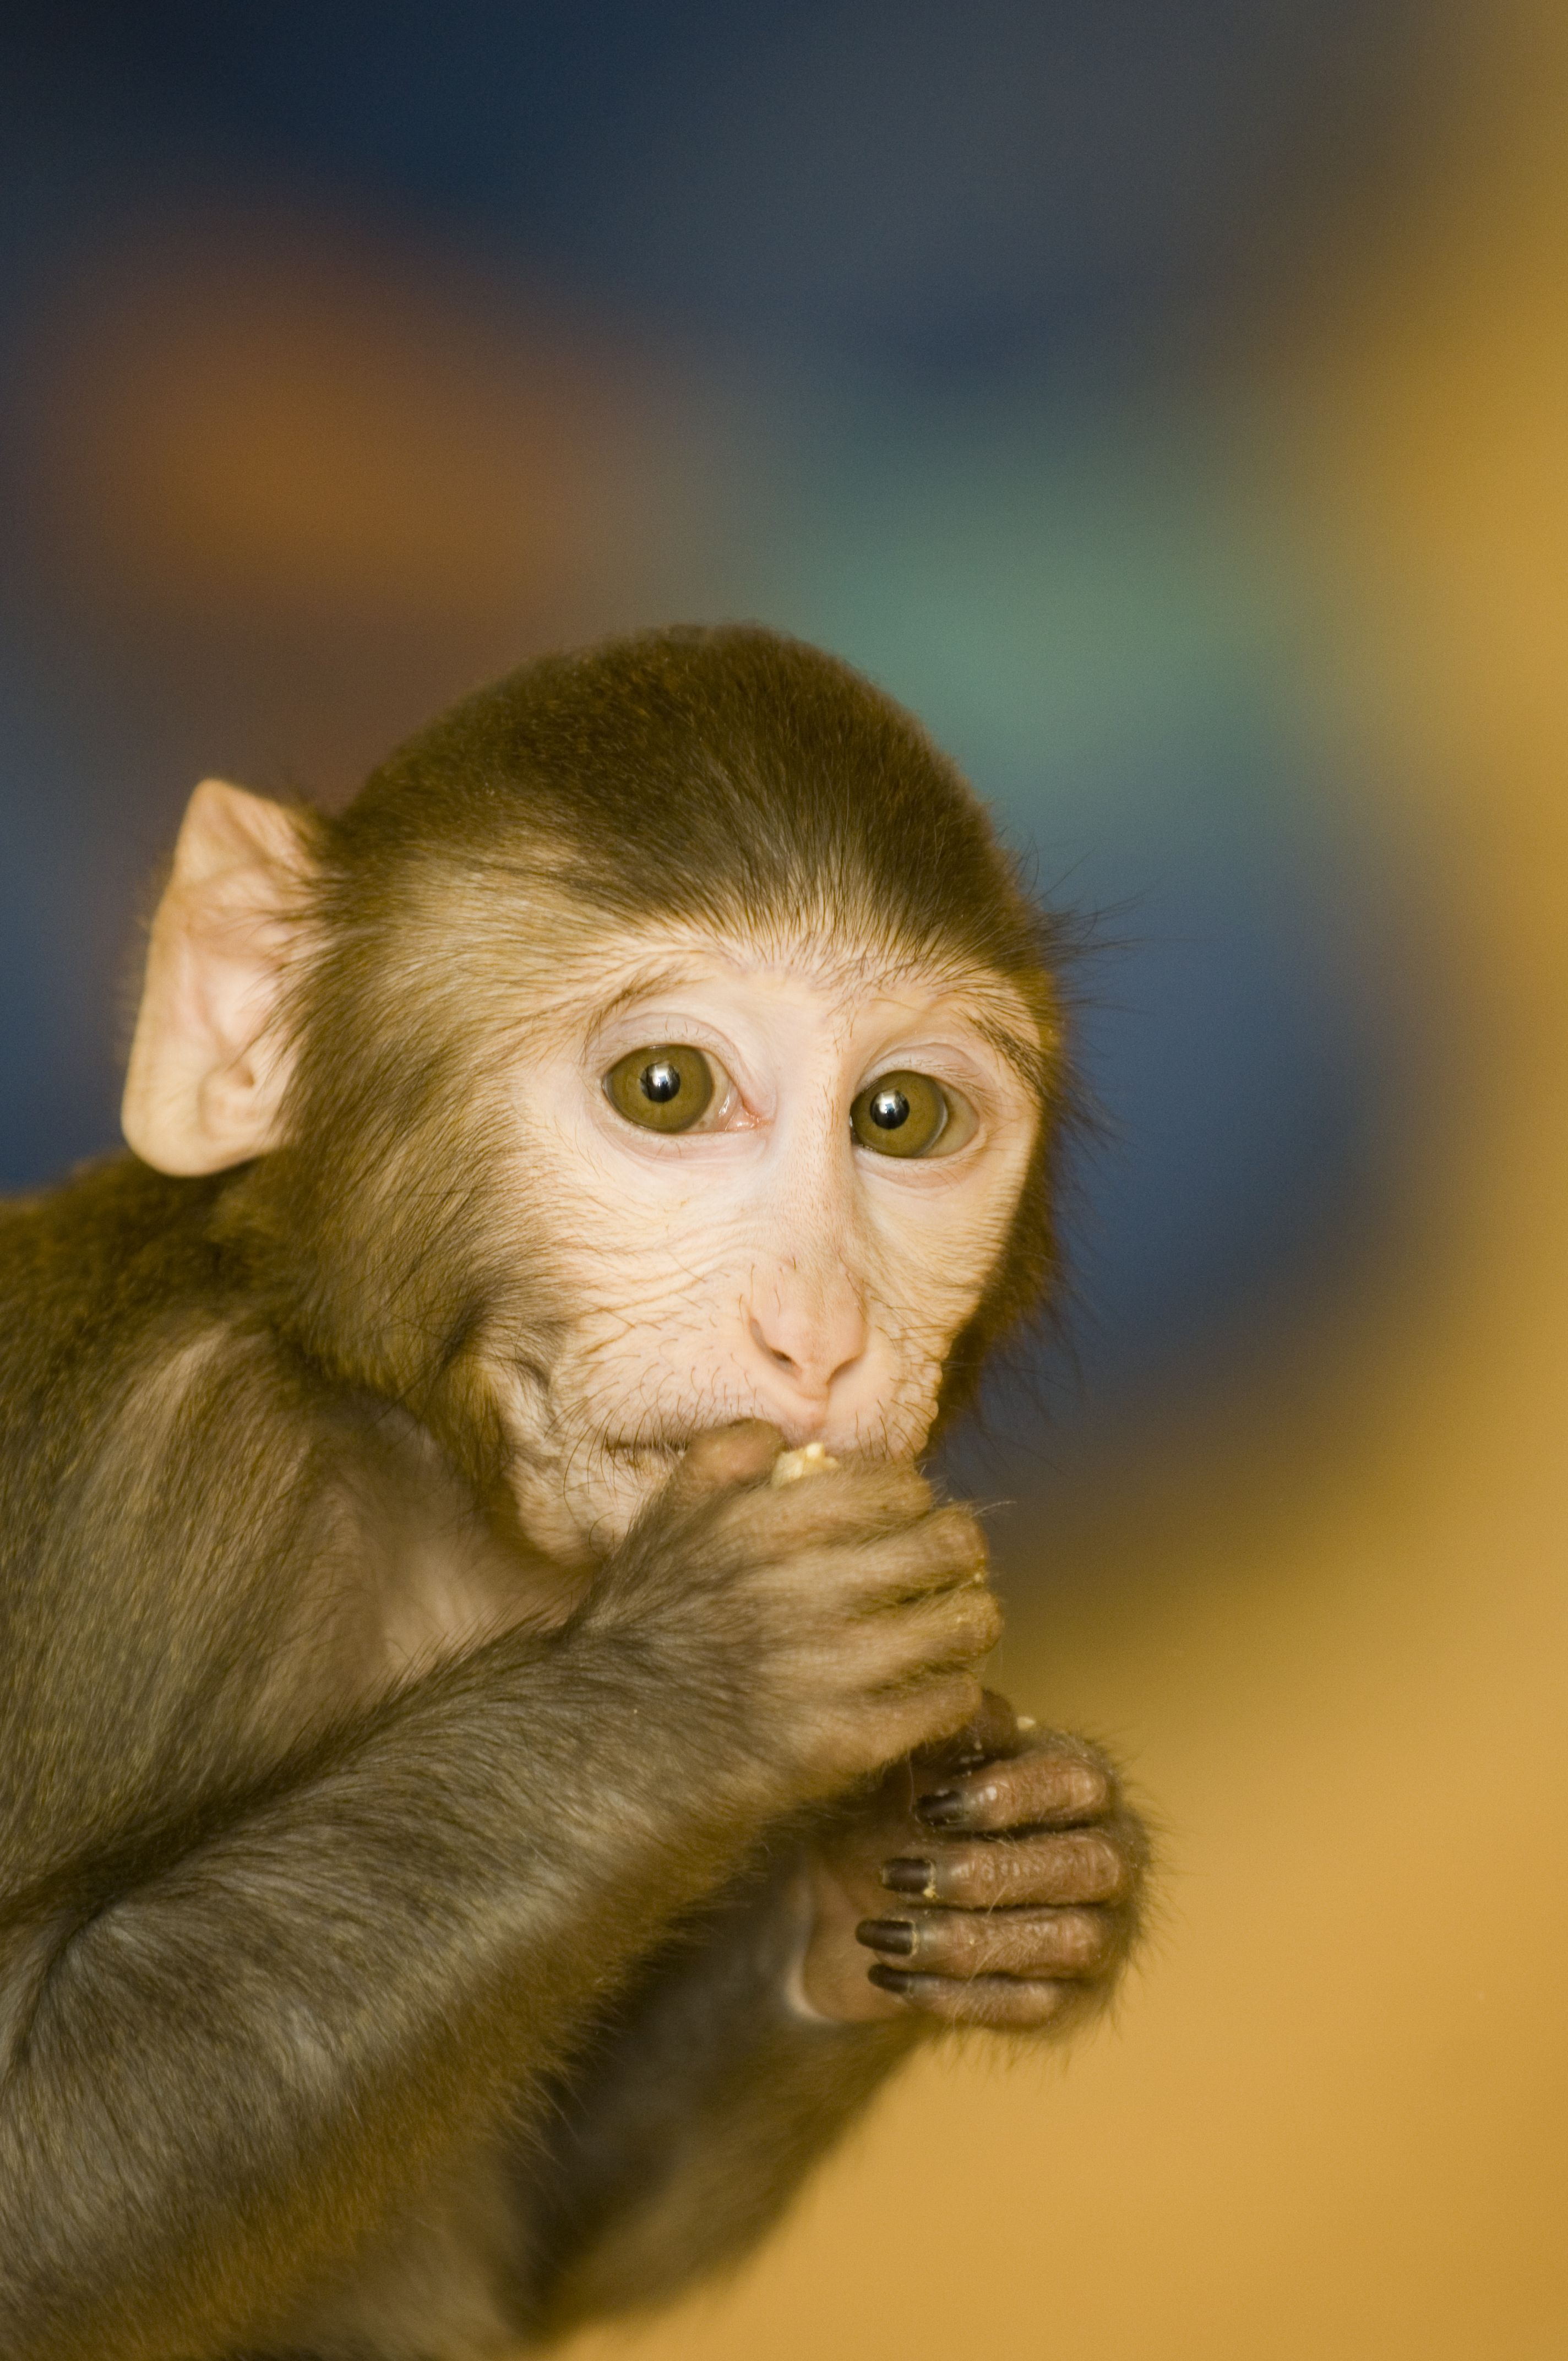monkey: (0, 602, 1171, 2361)
